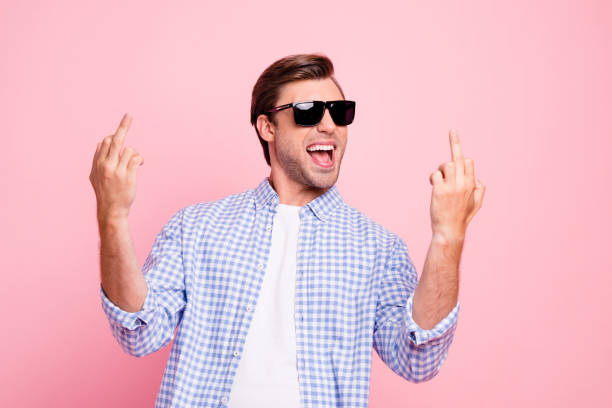insulting_gesture: (426, 127, 488, 243), (90, 104, 145, 218)
